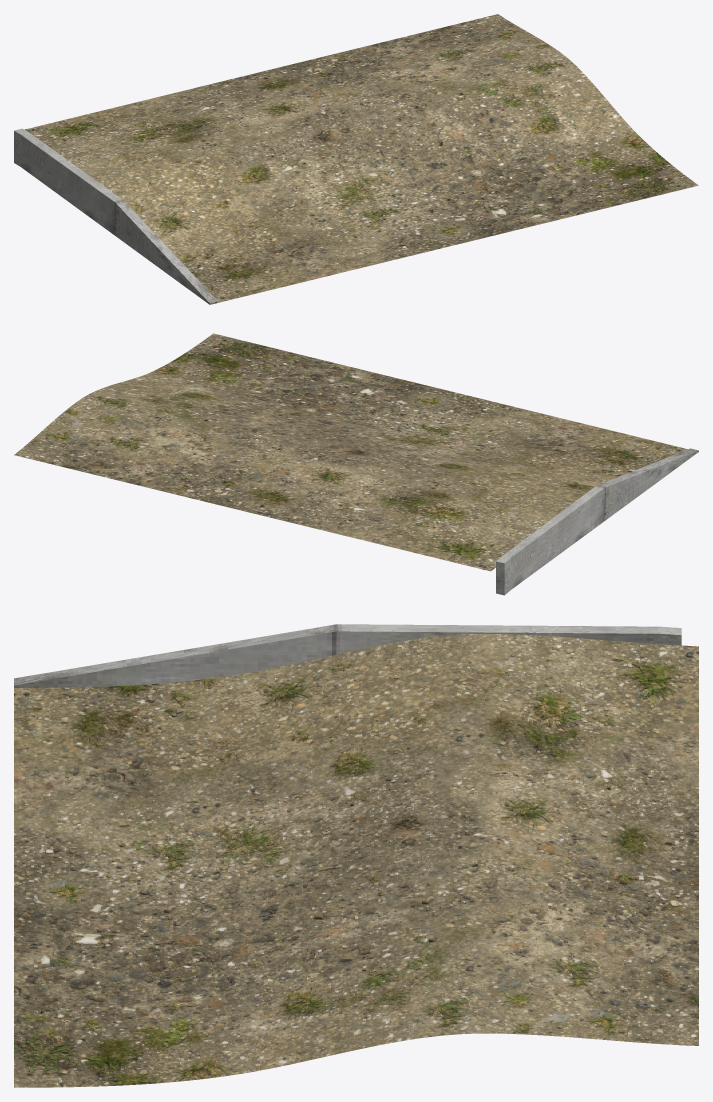
File: Roadway.glb
3 views of the same model, one above another, from view 1: azimuth 30°, elevation 25°; view 2: azimuth 150°, elevation 25°; view 3: azimuth 270°, elevation 25° (orthographic). The views are drawn at different scales.
Parts seen in each view (by area): view 1: Big_Field, Field_Retaining_Wall; view 2: Big_Field, Field_Retaining_Wall; view 3: Big_Field, Field_Retaining_Wall.
Boxes of the visible parts, <box> form: Big_Field: <box>25,14,698,302</box>; Field_Retaining_Wall: <box>14,128,218,304</box>; Big_Field: <box>14,333,687,571</box>; Field_Retaining_Wall: <box>496,448,698,595</box>; Big_Field: <box>14,633,698,1087</box>; Field_Retaining_Wall: <box>14,624,681,687</box>.
Bounding box in the file's own units: 43.57 × 2.94 × 31.
2 materials, 2 textured.
